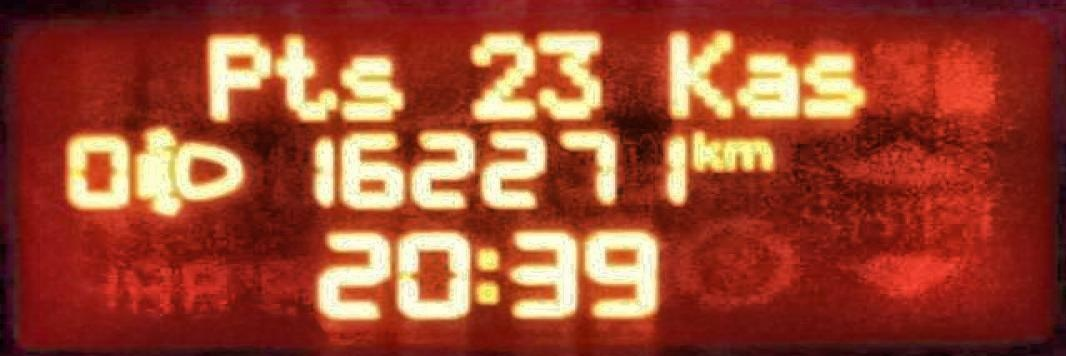0: (393, 228, 469, 321), (61, 132, 130, 210)
1: (660, 131, 690, 206), (308, 135, 334, 207)
2: (314, 229, 393, 320), (466, 30, 536, 121), (476, 128, 546, 211), (406, 127, 475, 210)
3: (506, 228, 578, 319), (536, 29, 603, 119)
6: (336, 130, 406, 210)
7: (554, 129, 618, 206)
9: (580, 226, 660, 320)
X: (665, 27, 735, 120), (269, 31, 338, 121), (203, 33, 269, 124), (798, 50, 868, 120), (735, 51, 800, 120), (338, 54, 404, 121), (470, 245, 501, 306), (721, 136, 773, 171), (690, 128, 721, 171)
